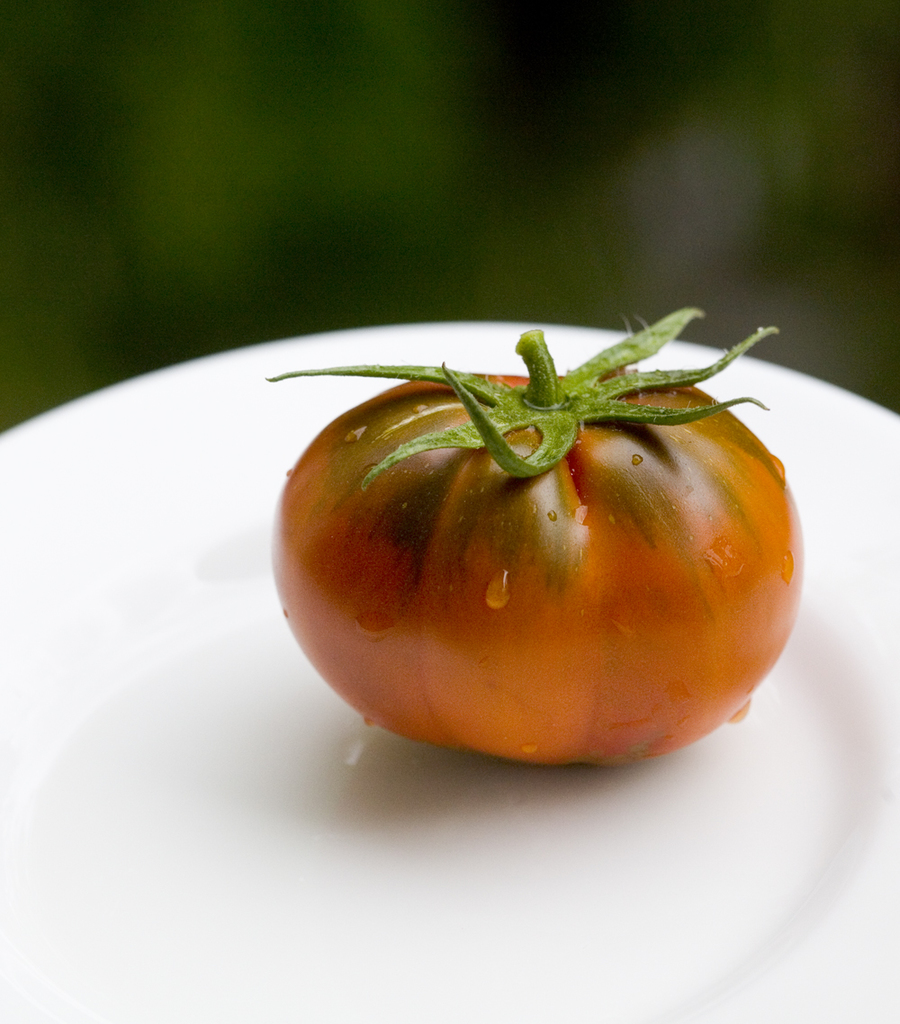Tomato: (260, 320, 809, 772)
